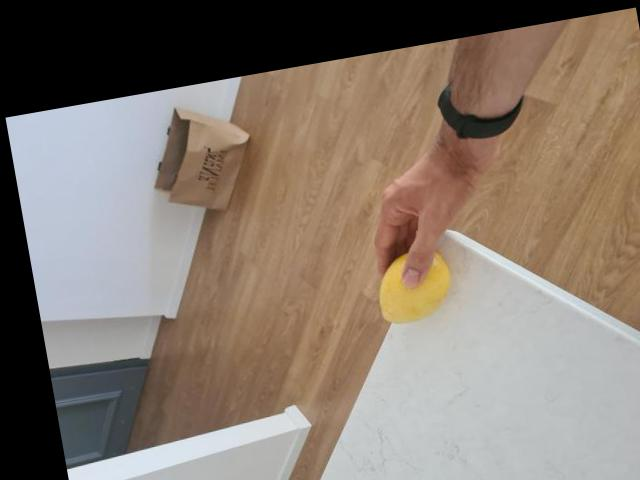lemon: (377, 243, 453, 325)
